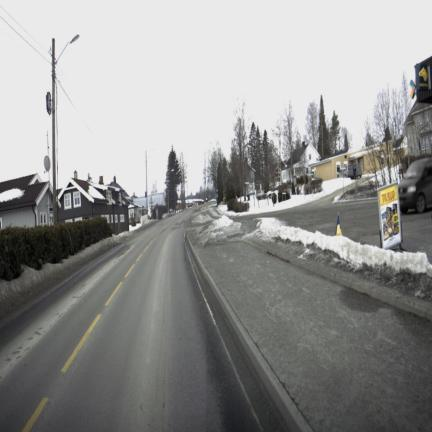Road: (0, 212, 279, 431)
